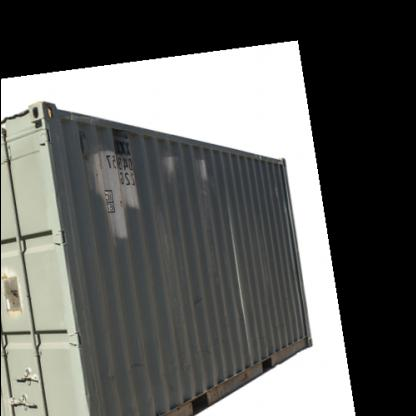Damage: (204, 371, 257, 398)
